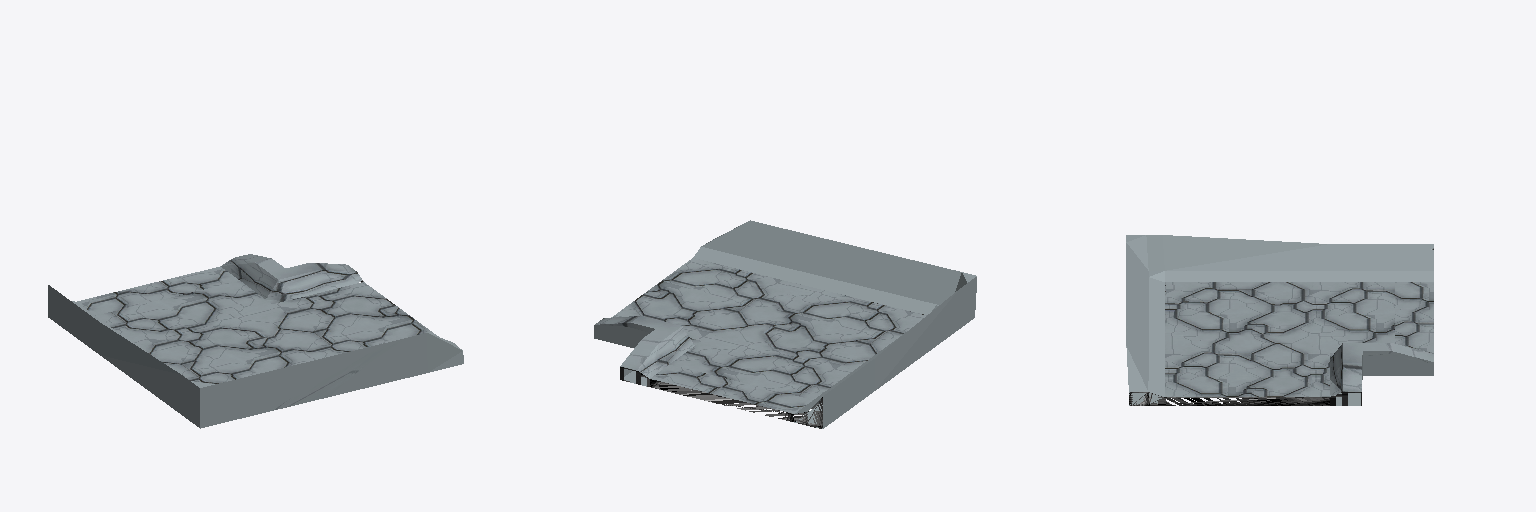
The picture shows the model from 3 angles: view 1: azimuth 30°, elevation 25°; view 2: azimuth 150°, elevation 25°; view 3: azimuth 270°, elevation 25°; orthographic projection.
Parts seen in each view (by area): view 1: Cube; view 2: Cube; view 3: Cube.
Part boxes in pixels (bbox=[...]): Cube: bbox=[48, 254, 463, 428]; Cube: bbox=[594, 220, 976, 428]; Cube: bbox=[1126, 235, 1433, 405].
Bounding box in the file's own units: 13.11 × 8.04 × 13.14.
1 materials, 1 textured.